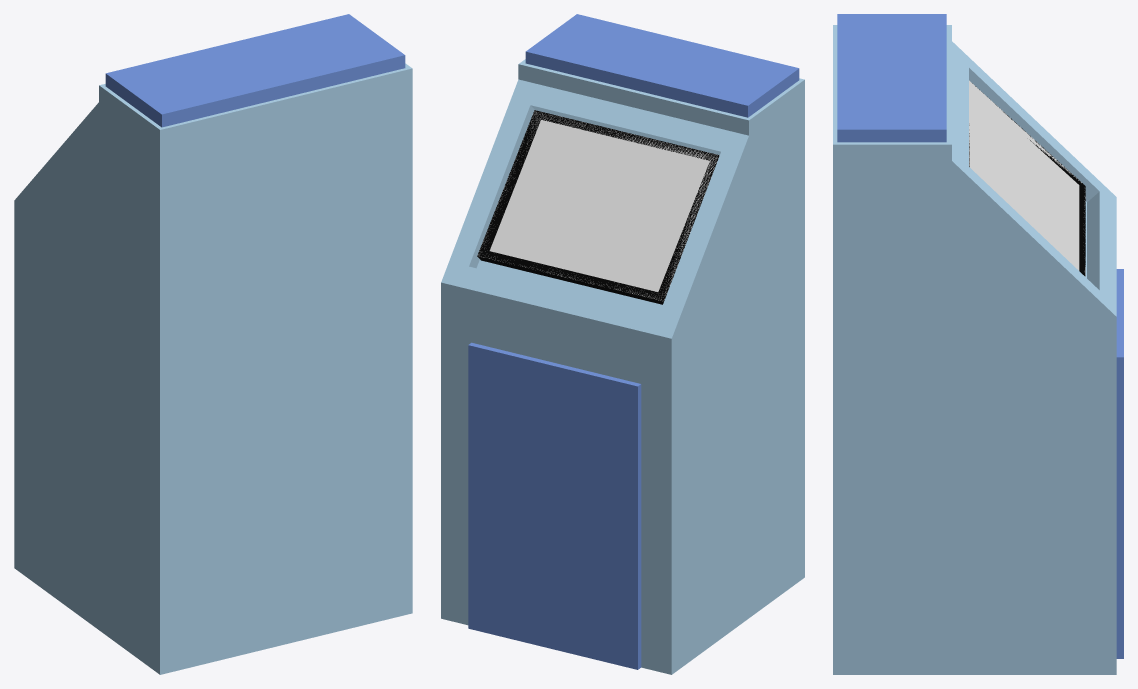
Rendered from MesaReceta.fbx.
3 views of the same model, side by side, from view 1: azimuth 30°, elevation 25°; view 2: azimuth 150°, elevation 25°; view 3: azimuth 270°, elevation 25° (orthographic). The views are drawn at different scales.
Parts seen in each view (by area): view 1: Cube, Cubo.003; view 2: Cube, Cubo, Cubo.002, Cubo.003, Cubo.001; view 3: Cube, Cubo.003, Cubo.002, Cubo, Cubo.001.
Boxes of the visible parts, x1,y1,x2,y2 form: Cube: (14,63,412,674); Cubo.003: (105,14,405,127); Cube: (441,59,804,674); Cubo: (468,342,641,669); Cubo.002: (478,111,719,301); Cubo.003: (525,14,799,117); Cubo.001: (477,110,719,304); Cube: (833,25,1116,674); Cubo.003: (837,14,946,142); Cubo.002: (969,80,1085,276); Cubo: (1116,269,1123,658); Cubo.001: (969,83,1085,276).
Size of the model in its own units: 200 by 422 by 205.
